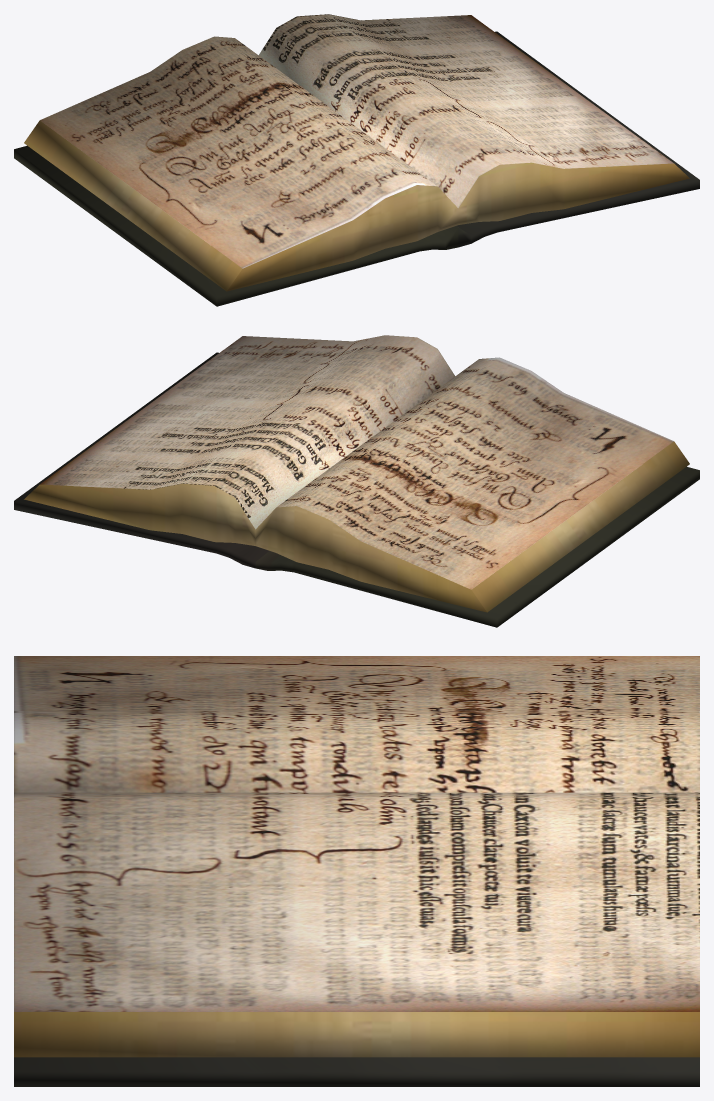
File: Spellbook.fbx
The picture shows the model from 3 angles, top to bottom: view 1: azimuth 30°, elevation 25°; view 2: azimuth 150°, elevation 25°; view 3: azimuth 270°, elevation 25°; orthographic projection. The views are drawn at different scales.
Parts seen in each view (by area): view 1: Cube.001; view 2: Cube.001; view 3: Cube.001.
Part boxes in pixels (x1,y1,x2,y2): Cube.001: (14, 14, 699, 306); Cube.001: (14, 335, 699, 627); Cube.001: (14, 656, 699, 1086).
Bounding box in the file's own units: 275 × 39.64 × 200.
